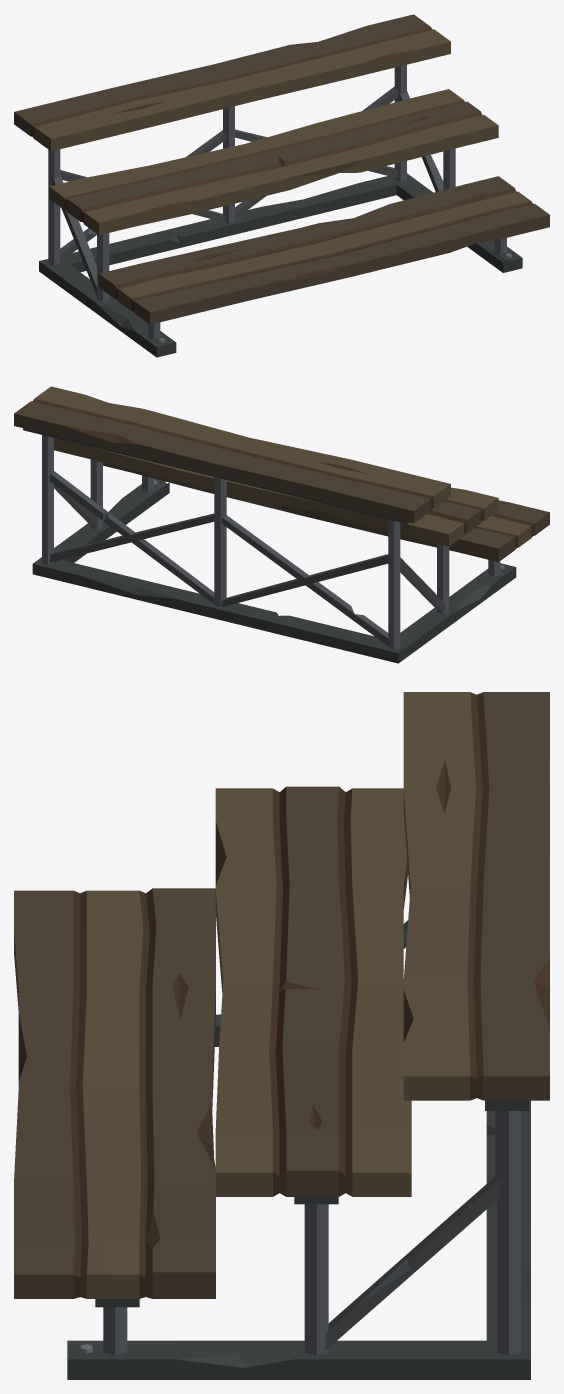
File: bleachers.glb
3 renders of one model, top to bottom at view 1: azimuth 30°, elevation 25°; view 2: azimuth 150°, elevation 25°; view 3: azimuth 270°, elevation 25°, orthographic. The views are drawn at different scales.
Parts seen in each view (by area): view 1: SM_Prop_Bleachers_Straight_01; view 2: SM_Prop_Bleachers_Straight_01; view 3: SM_Prop_Bleachers_Straight_01.
Part boxes in pixels (bbox=[...]): SM_Prop_Bleachers_Straight_01: bbox=[14, 14, 549, 357]; SM_Prop_Bleachers_Straight_01: bbox=[14, 386, 549, 663]; SM_Prop_Bleachers_Straight_01: bbox=[14, 692, 549, 1379].
Size of the model in its own units: 301 by 116 by 178.
Materials: 1 (1 with a texture image).
